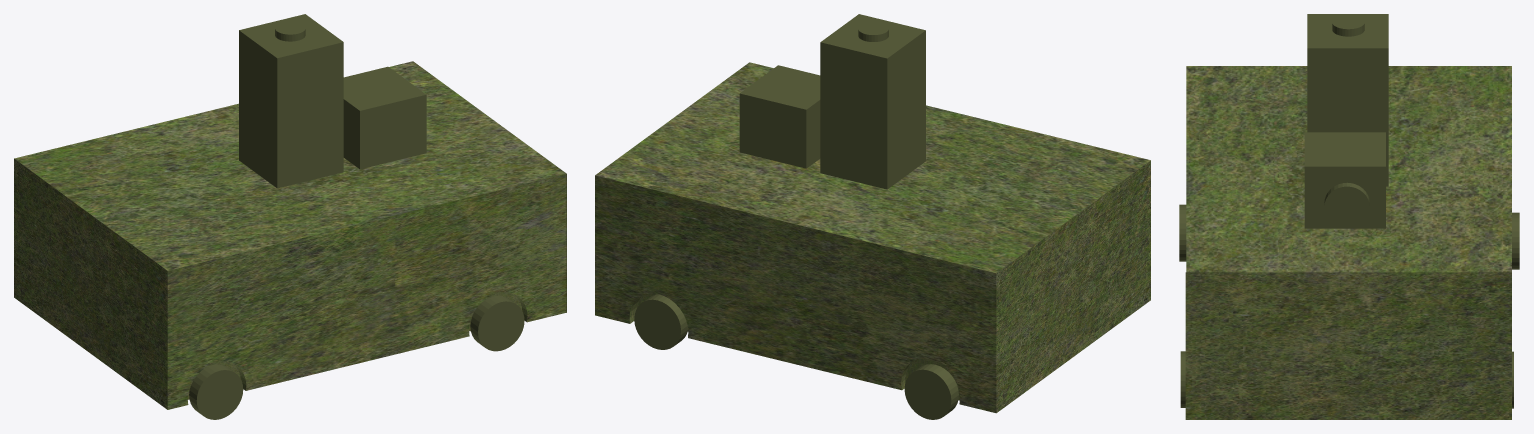
The model's file is veiculo_completo.dae.
3 renders of one model, left to right at view 1: azimuth 30°, elevation 25°; view 2: azimuth 150°, elevation 25°; view 3: azimuth 270°, elevation 25°, orthographic. The views are drawn at different scales.
Parts seen in each view (by area): view 1: base_link, lidar_link, cam_link, wheel_fr, wheel_br; view 2: base_link, lidar_link, cam_link, wheel_bl, wheel_fl; view 3: base_link, lidar_link, cam_link, wheel_bl, wheel_br, wheel_fr.
Boxes of the visible parts, bbox=[...] form: base_link: bbox=[14, 61, 566, 409]; lidar_link: bbox=[239, 14, 343, 188]; cam_link: bbox=[343, 66, 426, 169]; wheel_fr: bbox=[470, 295, 524, 351]; wheel_br: bbox=[189, 364, 243, 419]; base_link: bbox=[595, 62, 1150, 413]; lidar_link: bbox=[820, 14, 925, 189]; cam_link: bbox=[739, 65, 820, 168]; wheel_bl: bbox=[904, 364, 958, 419]; wheel_fl: bbox=[634, 294, 687, 349]; base_link: bbox=[1185, 66, 1511, 419]; lidar_link: bbox=[1307, 14, 1388, 186]; cam_link: bbox=[1304, 132, 1385, 228]; wheel_bl: bbox=[1512, 212, 1519, 269]; wheel_br: bbox=[1179, 204, 1186, 261]; wheel_fr: bbox=[1180, 351, 1185, 407].
Bounding box in the file's own units: 1.2 × 0.8358 × 0.8533.
1 material, 1 textured.
